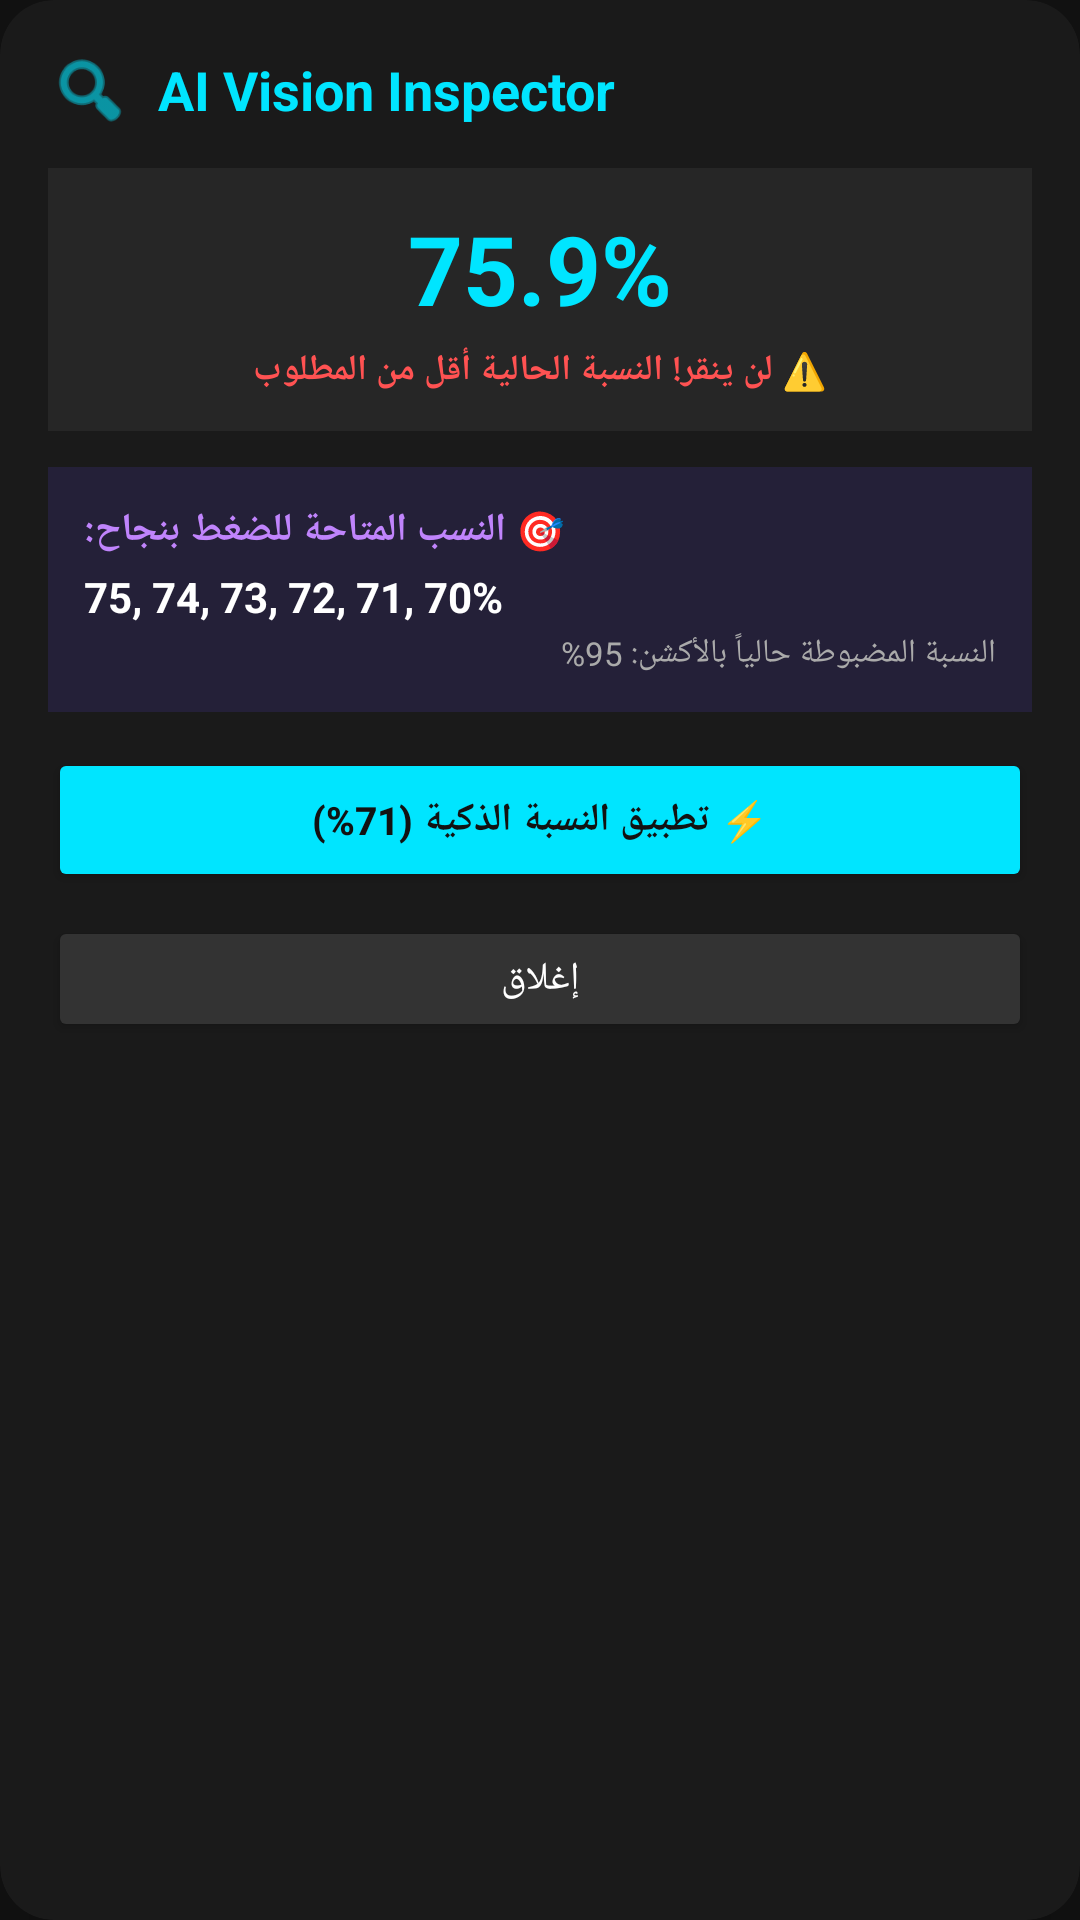

Where icons sit on this 1080 x 1920 app screen, as box(x1, y1, x2, y2):
search: box(59, 59, 121, 122)
